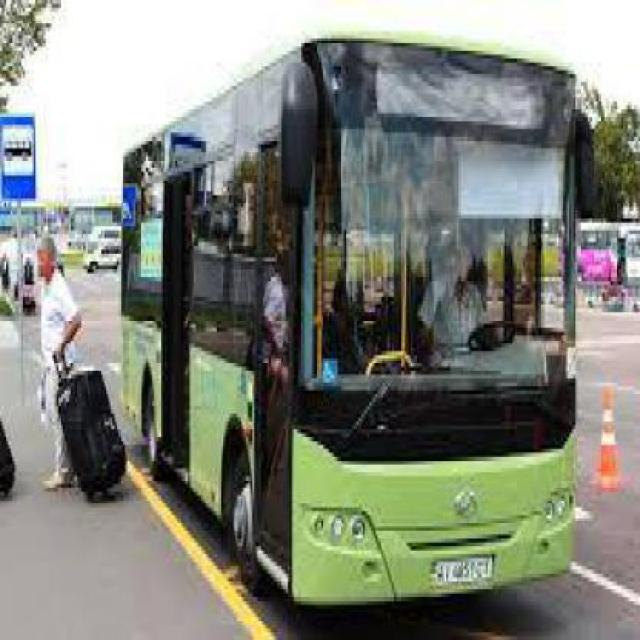bus: (120, 29, 582, 611)
